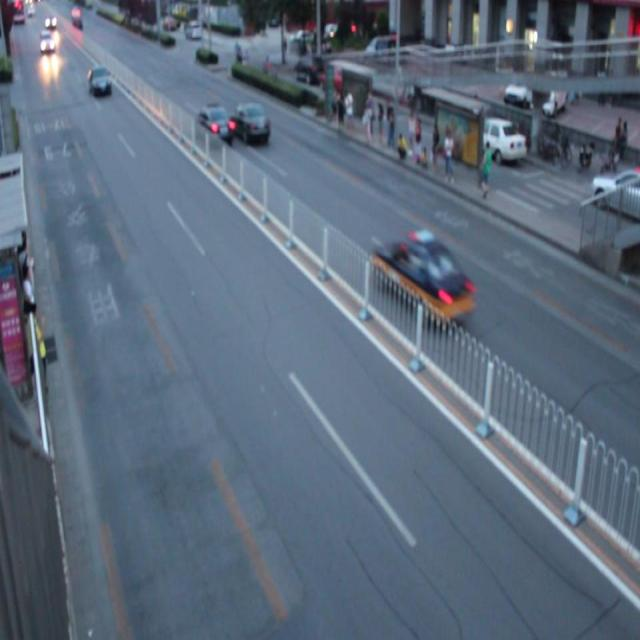car: (369, 228, 474, 330), (228, 100, 270, 152), (194, 102, 231, 150), (88, 66, 112, 99)
